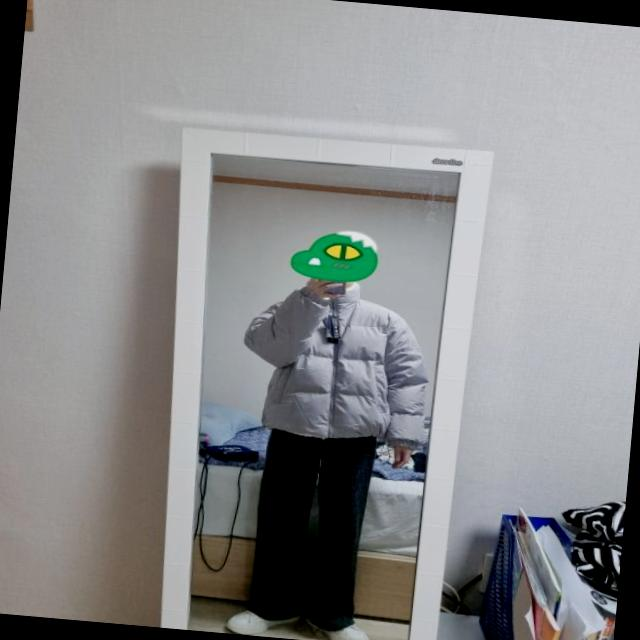padding: (237, 280, 439, 450)
slacks: (251, 424, 381, 630)
